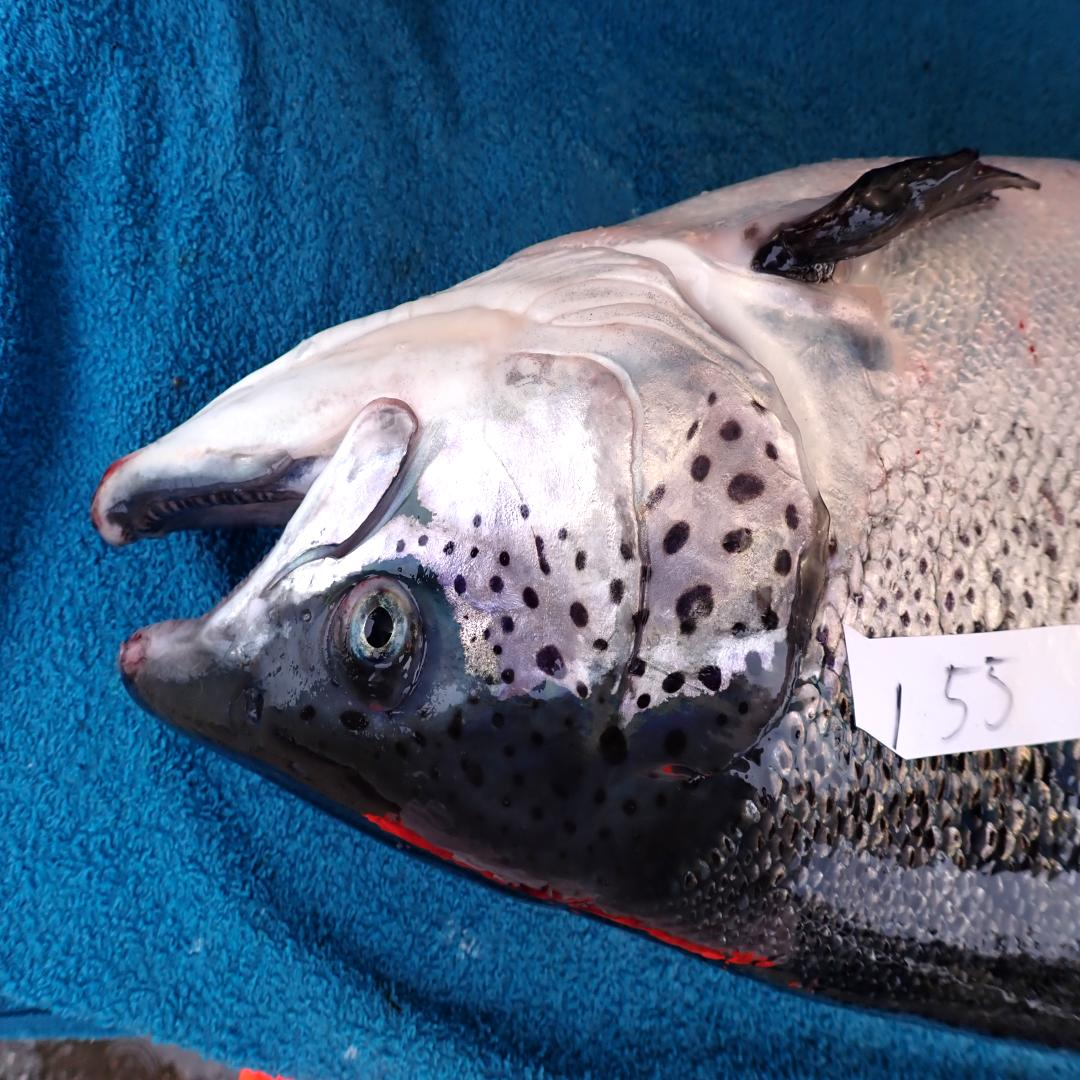roi: (419, 241, 823, 717)
